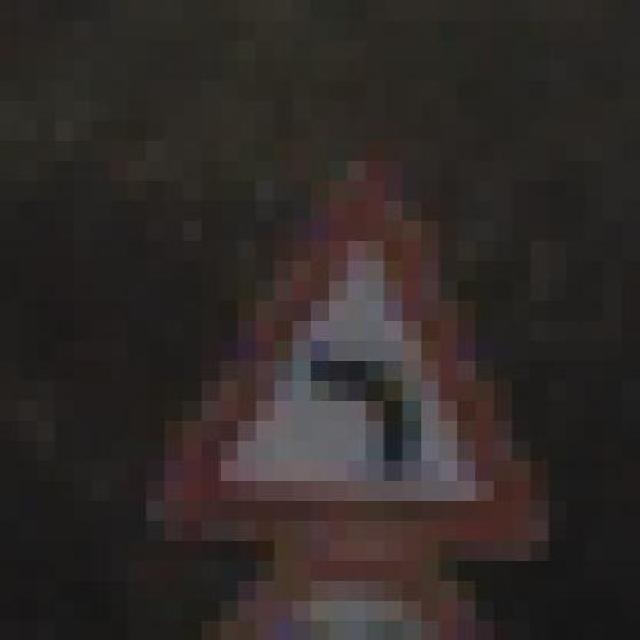Dangerous Left Curve Ahead: (110, 140, 585, 580)
